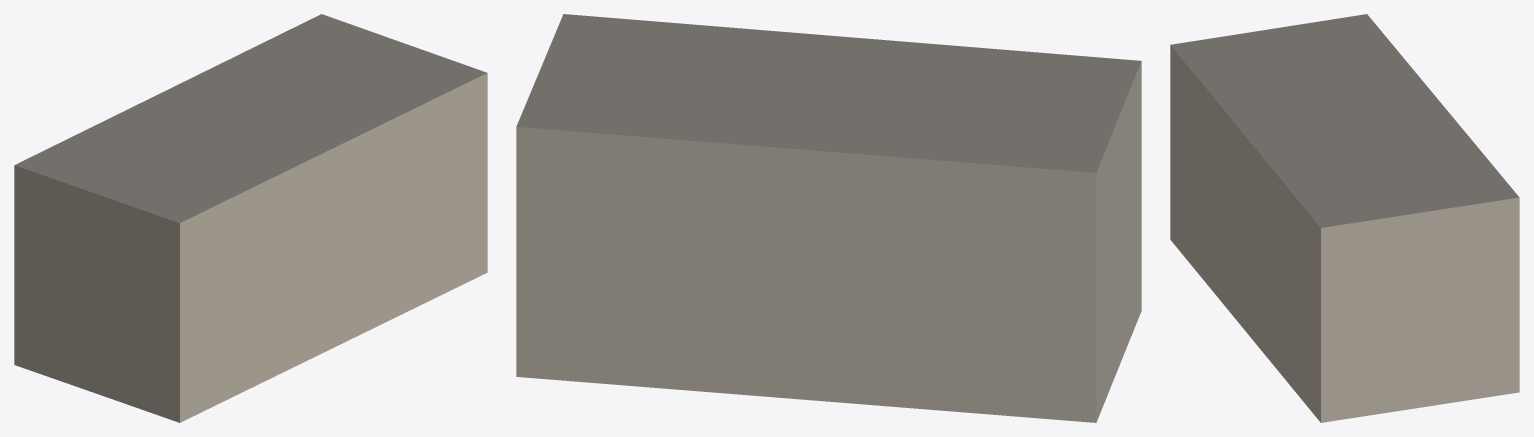
The picture shows the model from 3 angles, left to right: view 1: azimuth 30°, elevation 25°; view 2: azimuth 150°, elevation 25°; view 3: azimuth 270°, elevation 25°; orthographic projection. The views are drawn at different scales.
Parts seen in each view (by area): view 1: HP-w380339923; view 2: HP-w380339923; view 3: HP-w380339923.
Part boxes in pixels (x1,y1,x2,y2): HP-w380339923: [14, 14, 487, 422]; HP-w380339923: [516, 14, 1141, 422]; HP-w380339923: [1170, 14, 1519, 422].
Bounding box in the file's own units: 42.39 × 18 × 29.23.
